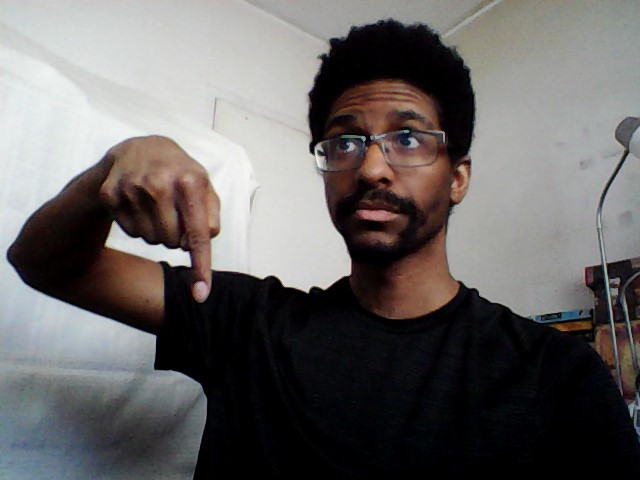q: (94, 130, 230, 310)
